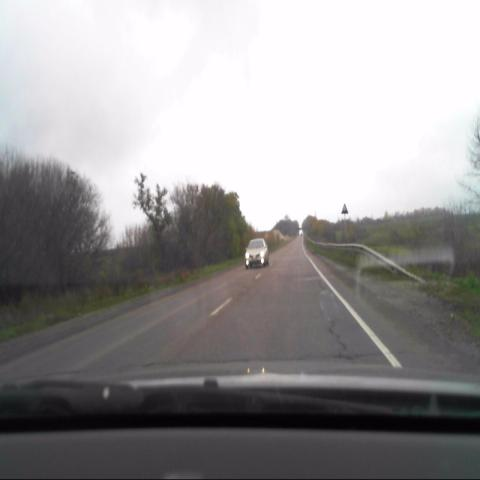1_16: (341, 203, 349, 215)
